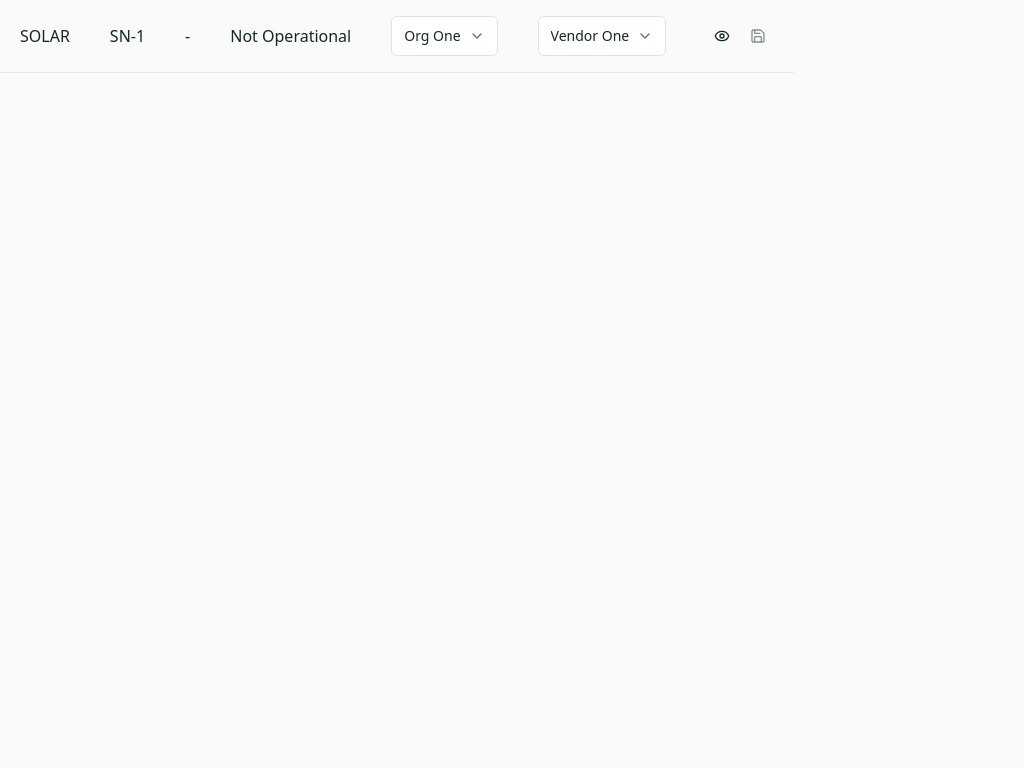
Test: AssetRow › saves the drafted vendor and settles Save back to disabled on success
The image size is (1024, 768).
Step 1. Click the button with aria-label "Vendor," → (602, 36), box [538,16,666,56]
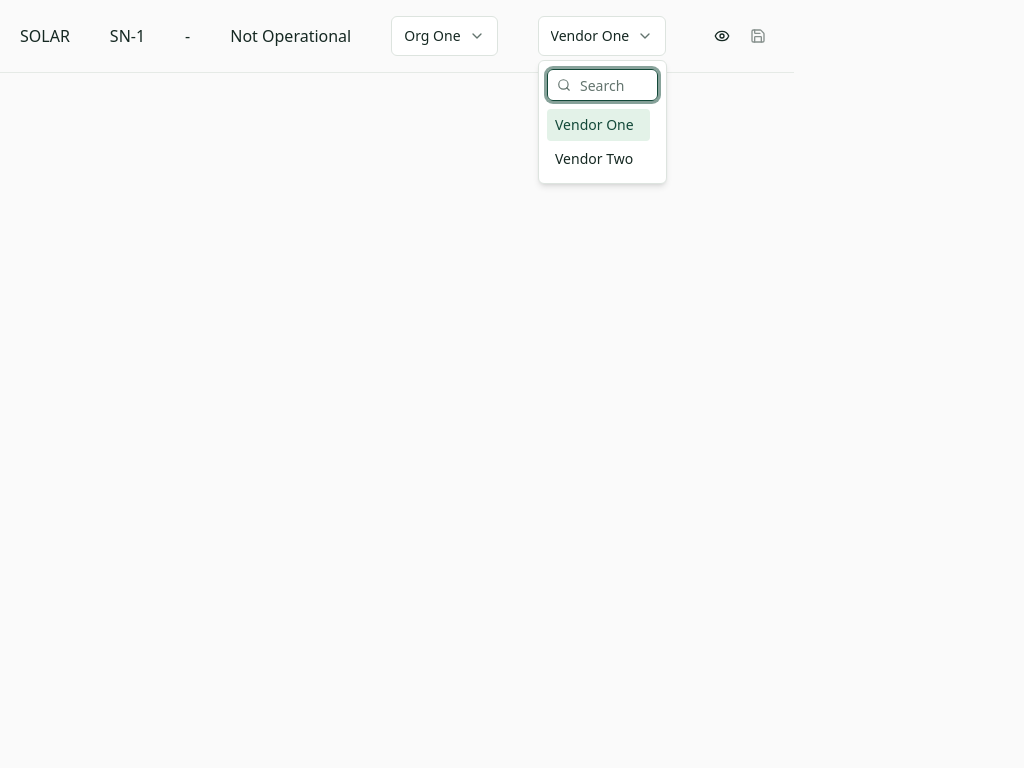
Step 2. Click the button "Vendor Two" → (598, 159), box [547,143,650,175]
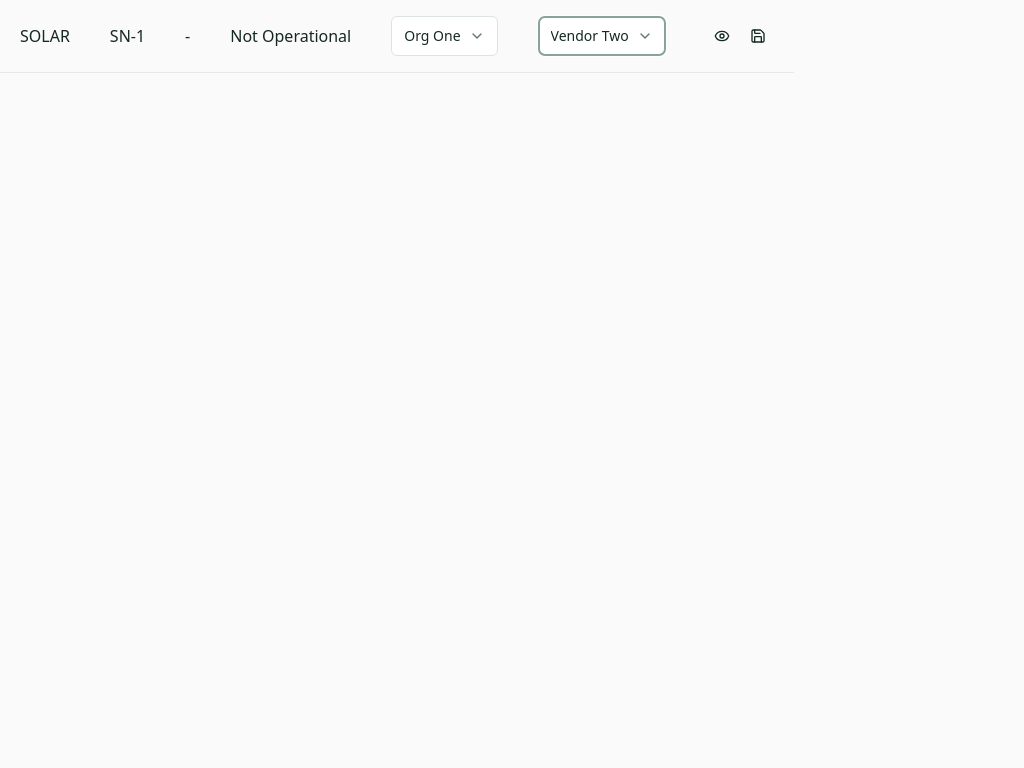
Step 3. Click the button named "Save" → (758, 36), box [742,20,774,52]
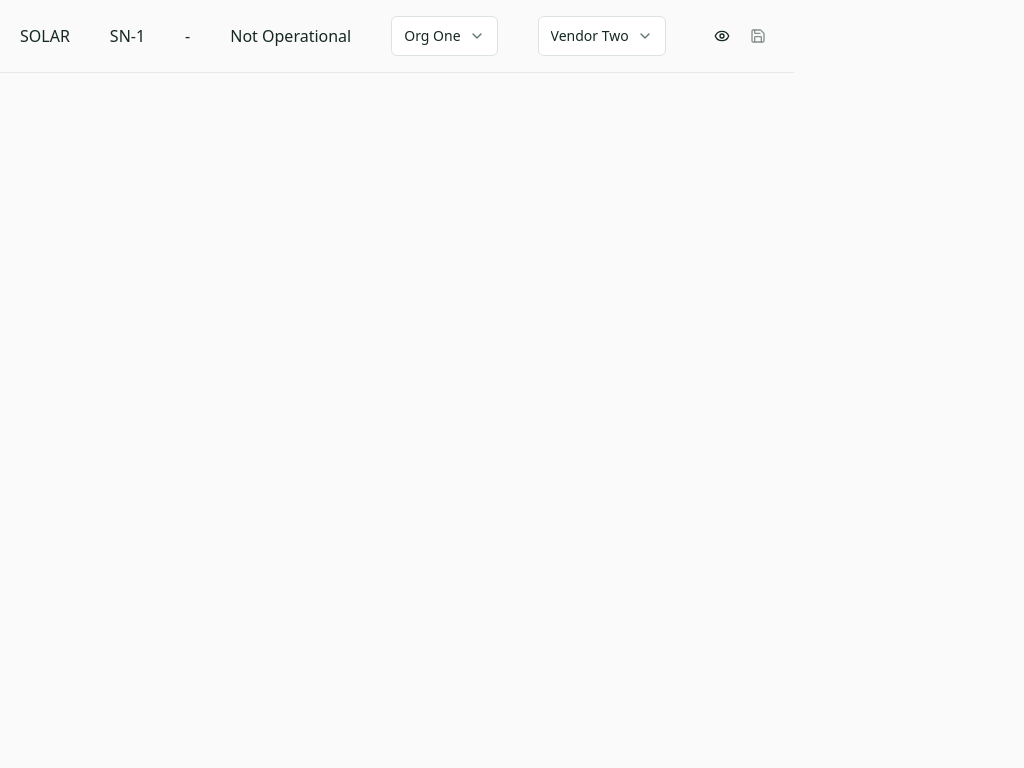
Now the button named "Save" is disabled, box [742,20,774,52]
